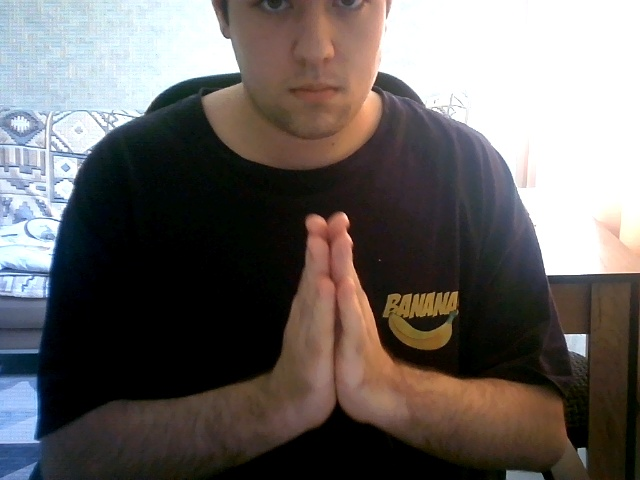please: (266, 194, 419, 450)
